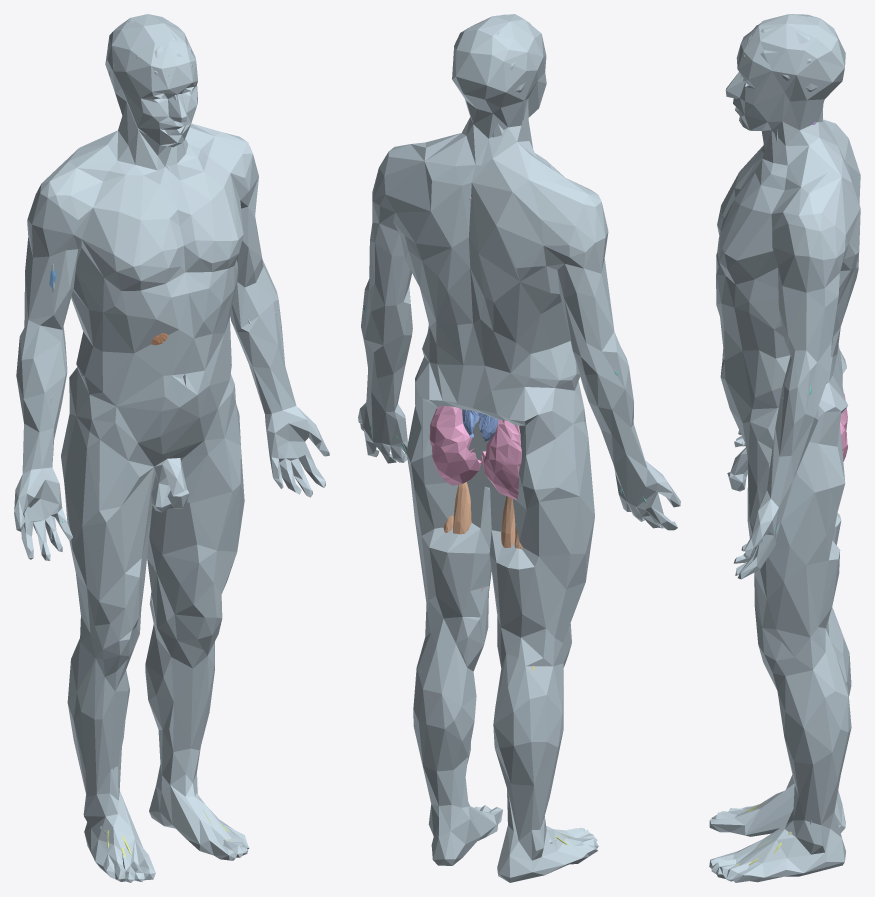
The model's file is bodyparts3d-fitness-taxonomy-draco.glb.
3 renders of one model, left to right at view 1: azimuth 30°, elevation 25°; view 2: azimuth 150°, elevation 25°; view 3: azimuth 270°, elevation 25°, orthographic. The views are drawn at different scales.
Parts seen in each view (by area): view 1: skin.bodyparts3d.full.no_genitals; view 2: skin.bodyparts3d.full.no_genitals, muscle.gluteus_maximus.left, muscle.gluteus_maximus.right, muscle.semitendinosus.left; view 3: skin.bodyparts3d.full.no_genitals.
Boxes of the visible parts, x1,y1,x2,y2 form: skin.bodyparts3d.full.no_genitals: (14,14,329,882); skin.bodyparts3d.full.no_genitals: (358,14,680,882); muscle.gluteus_maximus.left: (429,406,481,485); muscle.gluteus_maximus.right: (481,419,521,499); muscle.semitendinosus.left: (453,482,471,534); skin.bodyparts3d.full.no_genitals: (709,14,860,882).
Bounding box in the file's own units: 658 × 1655 × 273.
